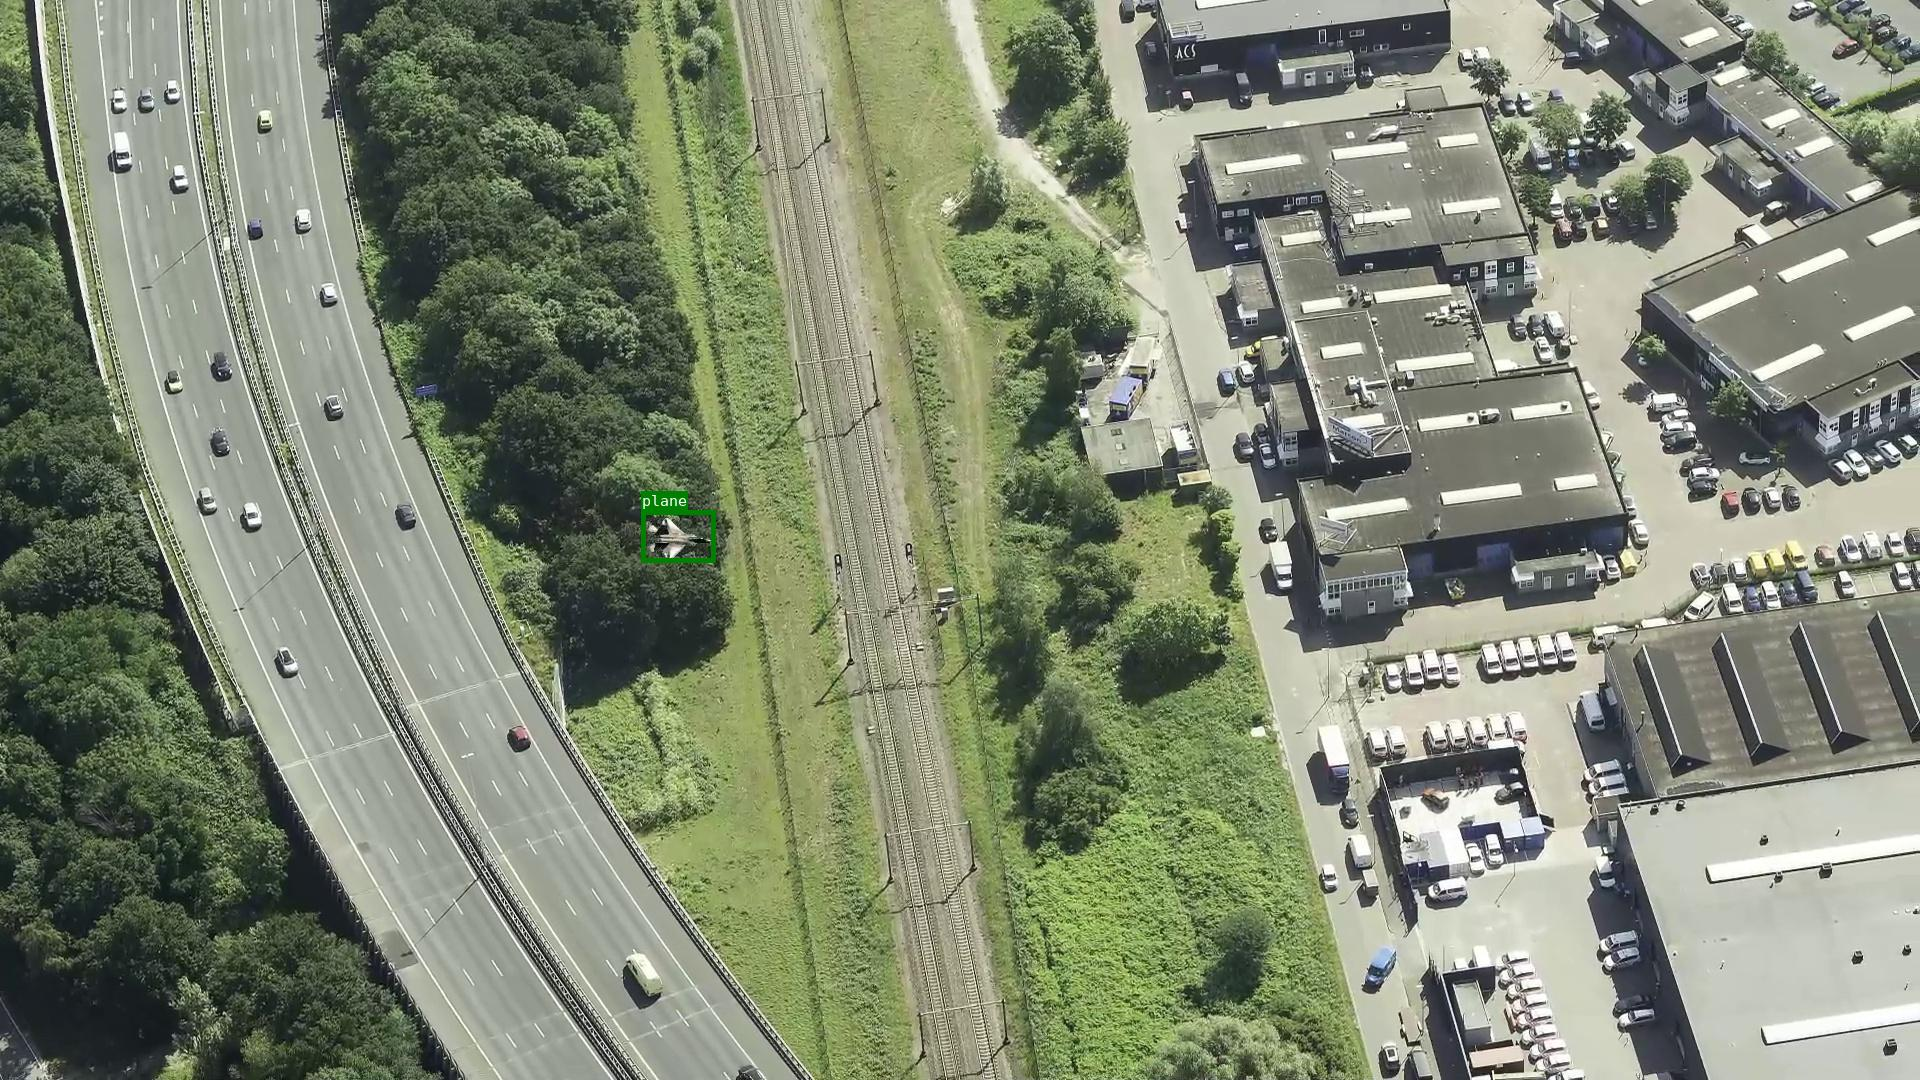plane: (641, 510, 715, 562)
